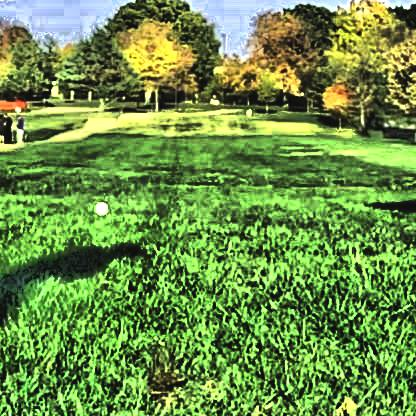golfball: (91, 198, 106, 215)
